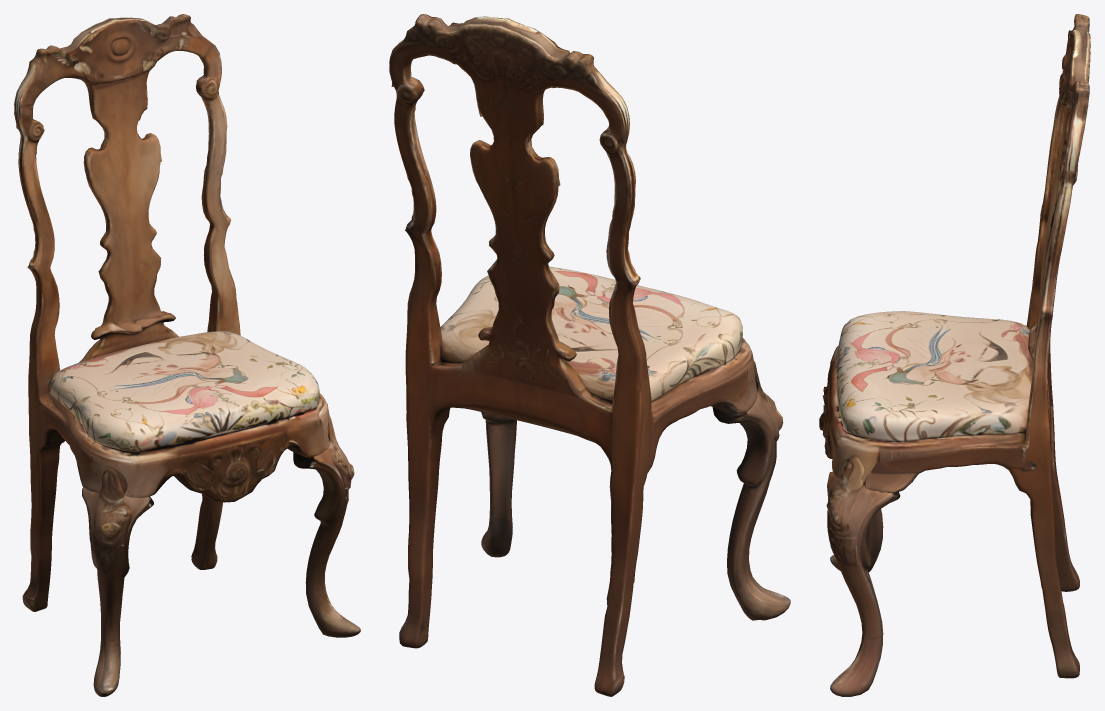
3 renders of one model, left to right at view 1: azimuth 30°, elevation 25°; view 2: azimuth 150°, elevation 25°; view 3: azimuth 270°, elevation 25°, orthographic. The views are drawn at different scales.
Parts seen in each view (by area): view 1: root.0, root.1, root.3, root.2; view 2: root.0, root.1, root.3, root.2; view 3: root.0, root.1, root.2, root.3.
Boxes of the visible parts, x1=… form: root.0: x1=14, y1=14, x2=329, y2=611; root.1: x1=48, y1=331, x2=319, y2=452; root.3: x1=82, y1=469, x2=153, y2=696; root.2: x1=293, y1=415, x2=360, y2=637; root.0: x1=389, y1=14, x2=757, y2=696; root.1: x1=440, y1=266, x2=742, y2=402; root.3: x1=712, y1=361, x2=790, y2=620; root.2: x1=481, y1=412, x2=516, y2=557; root.0: x1=819, y1=14, x2=1090, y2=678; root.1: x1=836, y1=311, x2=1033, y2=441; root.2: x1=826, y1=457, x2=900, y2=696; root.3: x1=830, y1=509, x2=883, y2=572.
Size of the model in its own units: 0.5035 by 1.04 by 0.4316.
Materials: 4 (4 with a texture image).
